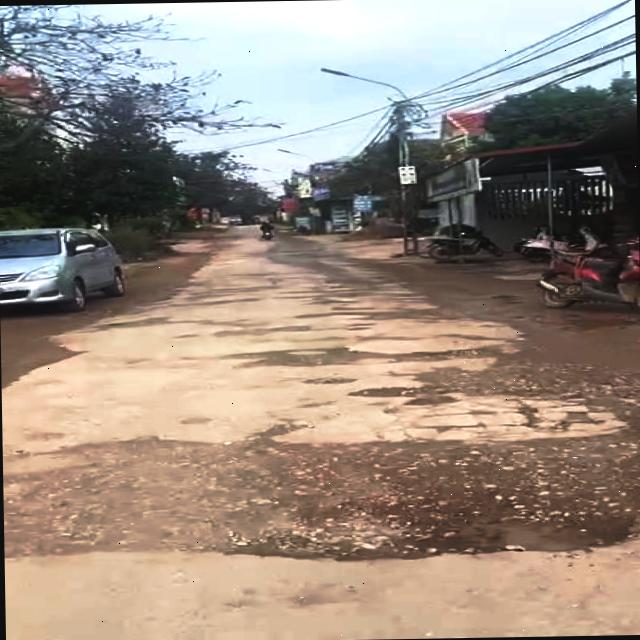pothole: (2, 430, 640, 571), (472, 373, 622, 403), (226, 344, 373, 372), (496, 406, 610, 436), (294, 304, 453, 324), (394, 342, 510, 366), (354, 384, 467, 408), (206, 323, 310, 337), (96, 314, 172, 332)
